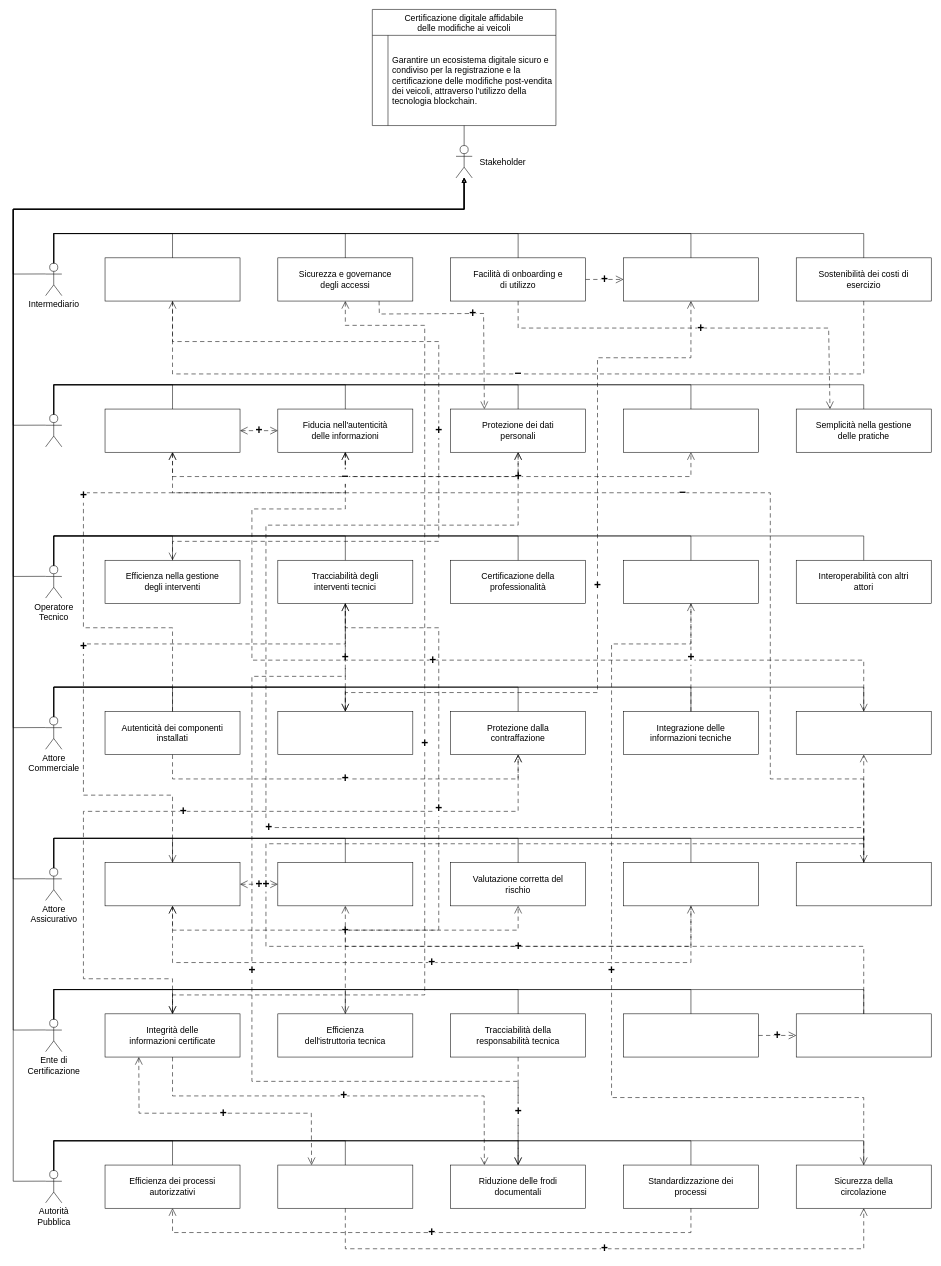
The diagram is 941 pixels wide and 1266 high, and some of its shapes have lost their labels. The centre of each missing label's shape, as x and y in pixels:
"Accuratezza delle informazioni sul veicolo" belongs at point 172,884.
"Adozione della piattaforma" belongs at point 690,279.
"Affidabilità della piattaforma" belongs at point 172,279.
"Condivisione sicura delle informazioni assicurative" belongs at point 863,884.
"Conformità normativa delle modifiche" belongs at point 690,581.
"Efficienza nella gestione dei sinistri" belongs at point 690,884.
"Facilità di controllo del veicolo" belongs at point 345,1186.
"Rafforzamento della fiducia commerciale" belongs at point 863,733.
"Riconoscibilità dell'accreditamento" belongs at point 863,1035.
"Riduzione delle frodi assicurative" belongs at point 345,884.
"Ripetibilità della verifica" belongs at point 690,1035.
"Tracciabilità della filiera" belongs at point 345,733.
"Trasparenza dello storico del veicolo" belongs at point 172,430.
"Utente Finale" belongs at point 53,430.
"Valorizzazione del veicolo" belongs at point 690,430.
